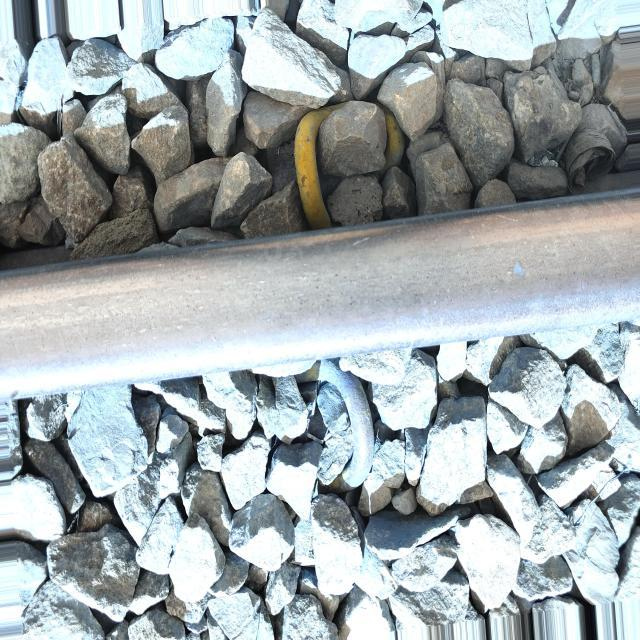Good Fasteners: (294, 101, 405, 229), (319, 359, 374, 487)
